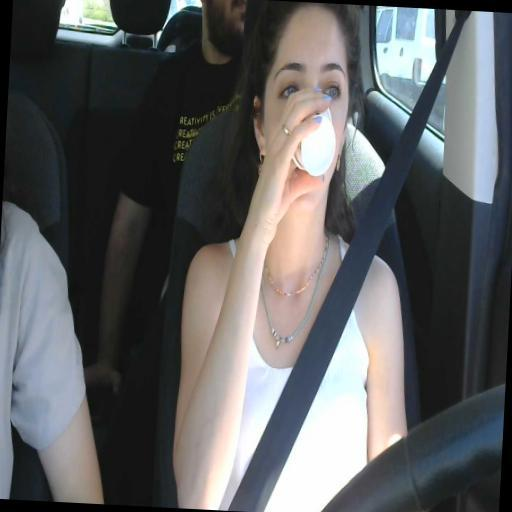Drinking: (253, 6, 347, 207)
